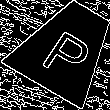P_NE: (36, 17, 97, 79)
